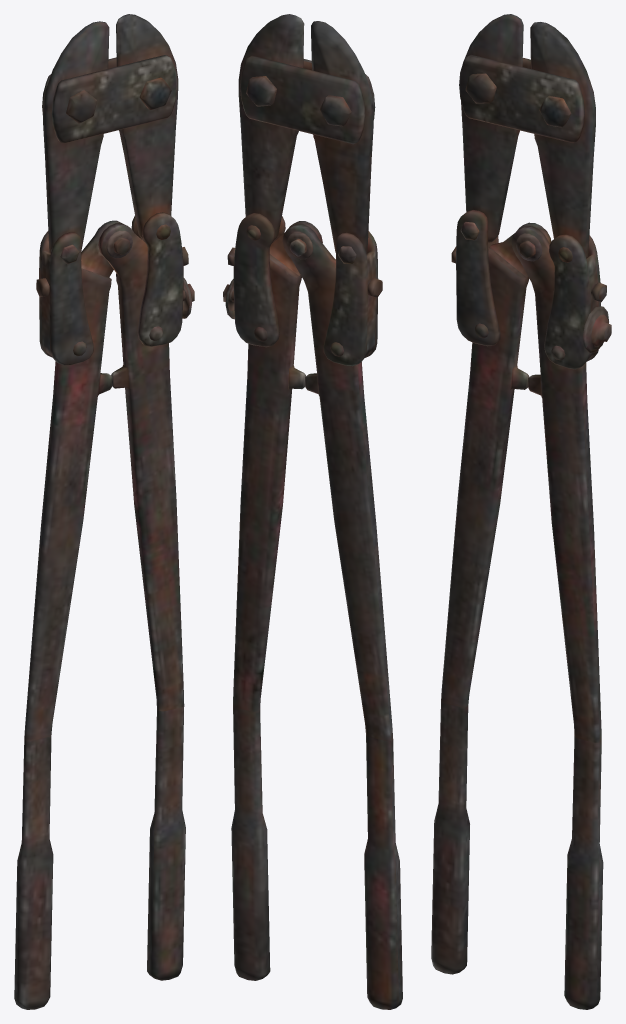
File: alicate_corte.glb
3 renders of one model, left to right at view 1: azimuth 30°, elevation 25°; view 2: azimuth 150°, elevation 25°; view 3: azimuth 330°, elevation 25°, orthographic.
Visible parts, largest first — view 1: AlicateCorte; view 2: AlicateCorte; view 3: AlicateCorte.
Part boxes in pixels (box(x1,y1,x2,y2)): AlicateCorte: box(14, 14, 194, 1009); AlicateCorte: box(223, 14, 402, 1009); AlicateCorte: box(431, 14, 611, 1009).
Size of the model in its own units: 0.151 by 0.8026 by 0.036.
Materials: 1 (1 with a texture image).
